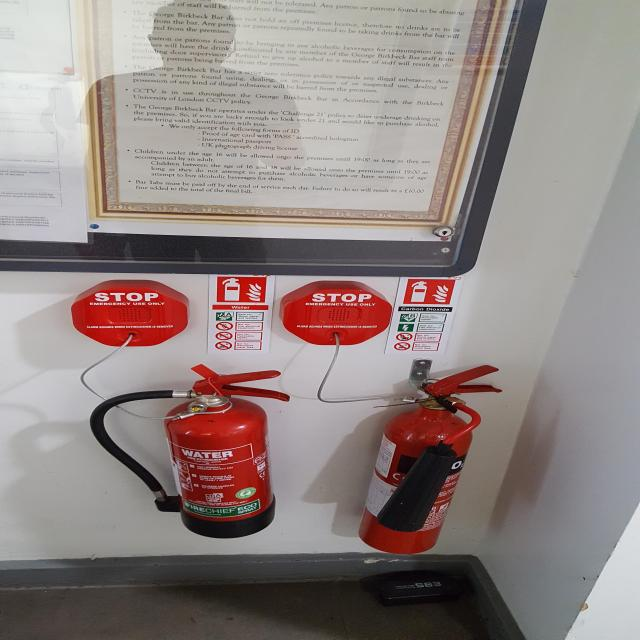fire_extinguisher: (86, 368, 297, 541), (352, 363, 510, 554)
